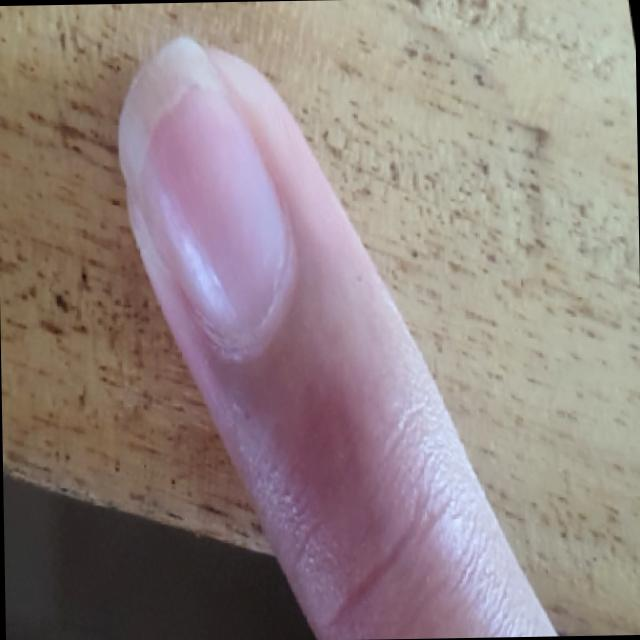Nail: (117, 37, 288, 330)
